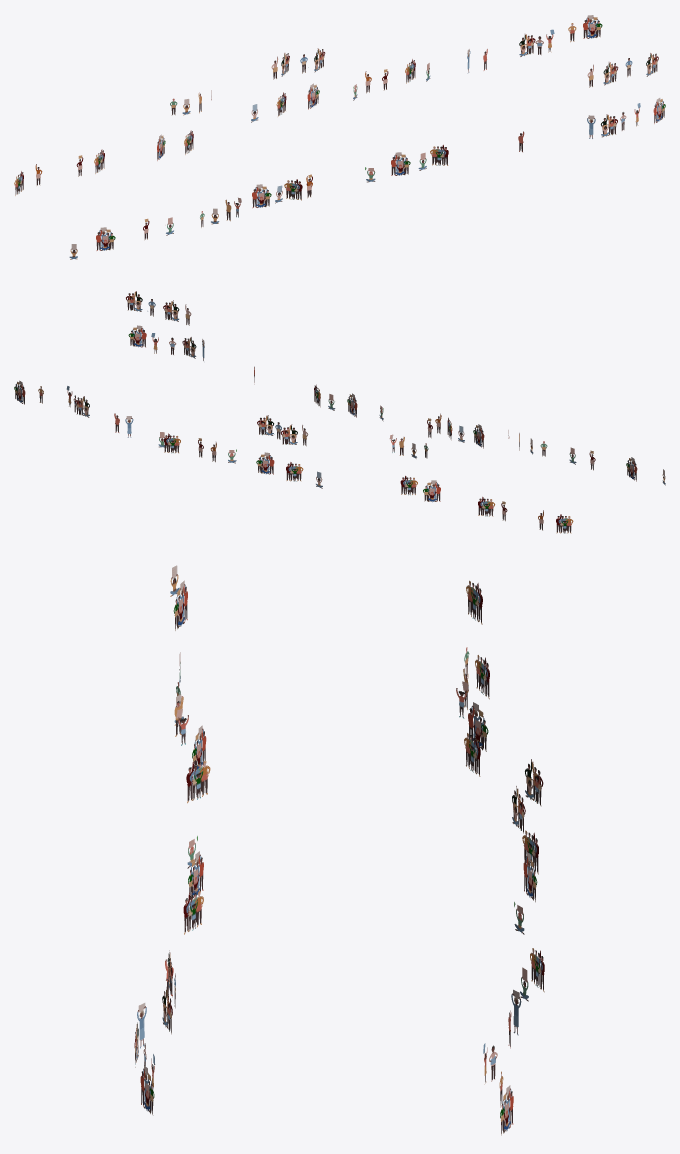
Rendered from crowd.fbx.
3 views of the same model, one above another, from view 1: azimuth 30°, elevation 25°; view 2: azimuth 150°, elevation 25°; view 3: azimuth 270°, elevation 25° (orthographic). The views are drawn at different scales.
Parts seen in each view (by area): view 1: polySurface297, polySurface293; view 2: no part large enough to name; view 3: no part large enough to name.
Boxes of the visible parts, x1,y1,x2,y2 form: polySurface297: [252, 184, 271, 208]; polySurface293: [391, 152, 410, 175].
Bounding box in the file's own units: 58.62 × 6.59 × 18.23.
Materials: 1 (1 with a texture image).
